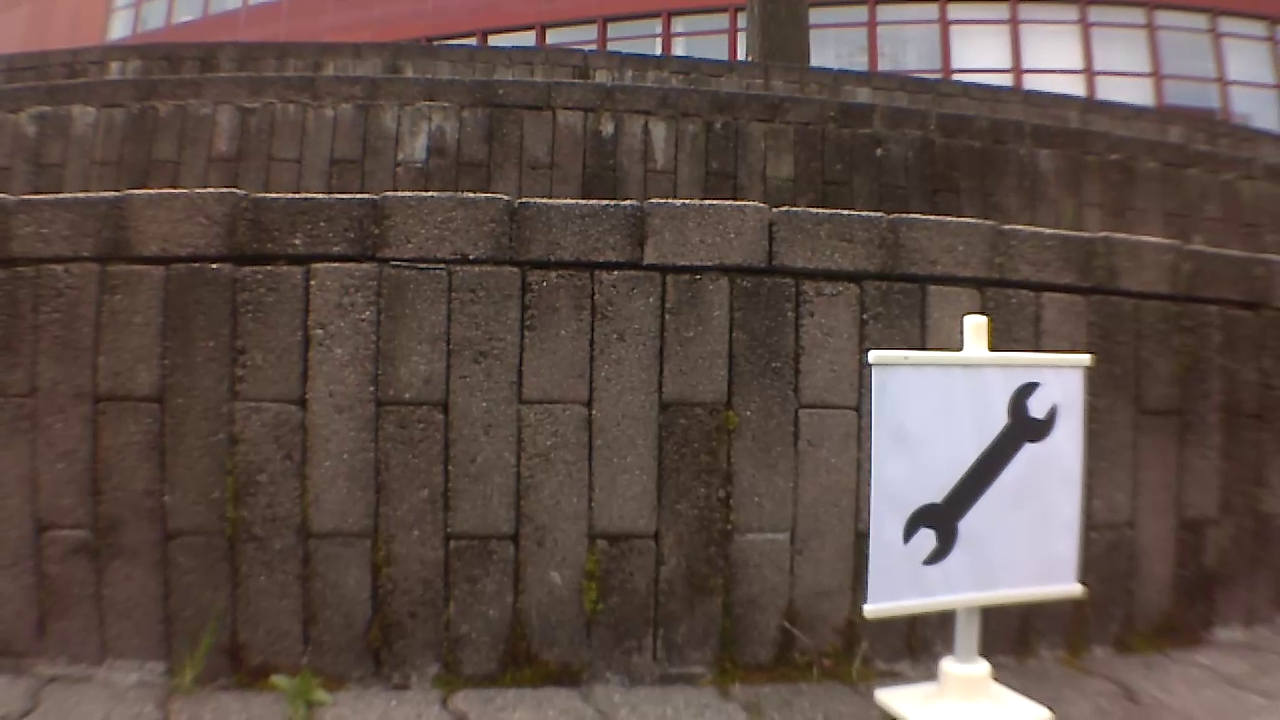wrench: (898, 380, 1066, 569)
